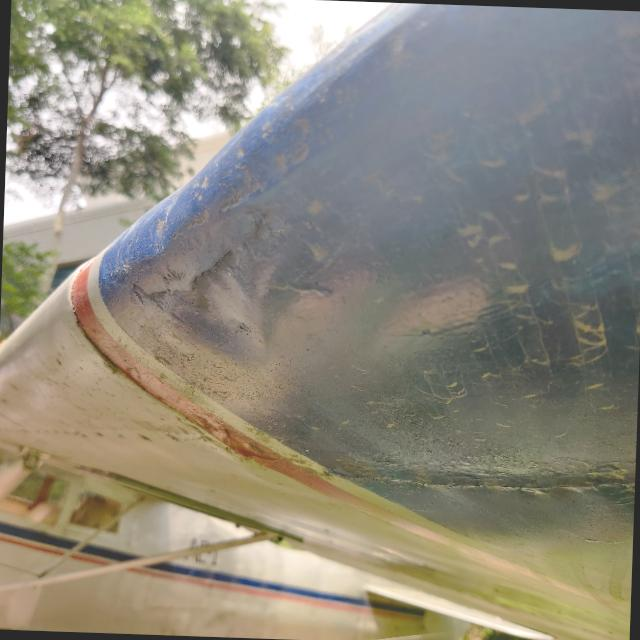dent: (151, 180, 369, 396)
